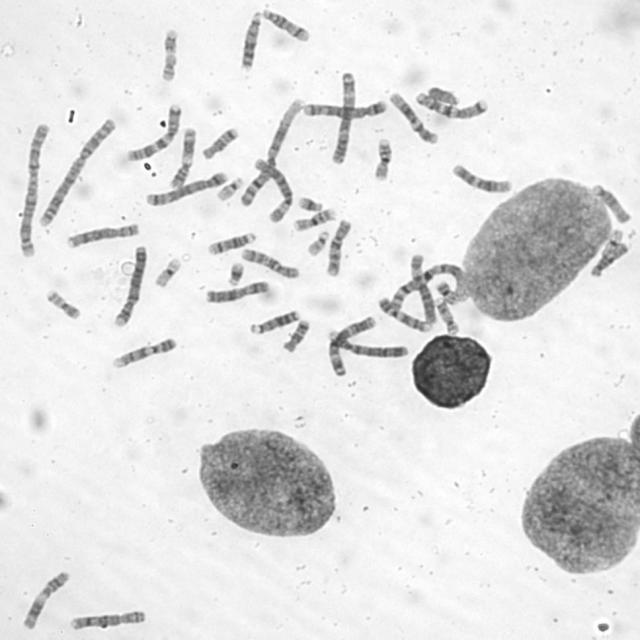A1: (235, 94, 305, 208), (387, 258, 467, 312)
A2: (36, 114, 118, 228), (15, 120, 51, 260)
A3: (324, 313, 376, 377), (327, 69, 357, 165)
B4: (110, 242, 149, 328), (325, 324, 409, 359)
B5: (143, 168, 230, 208), (300, 97, 390, 120)
C10: (238, 246, 302, 280), (323, 216, 353, 277)
C11: (19, 568, 72, 630), (167, 124, 198, 190)
C12: (386, 88, 440, 146), (448, 161, 513, 194)
C6: (249, 155, 294, 224), (407, 250, 437, 326)
C7: (124, 102, 184, 162), (412, 88, 488, 122)
C8: (64, 220, 141, 250), (66, 606, 148, 632)
C9: (109, 334, 178, 370), (376, 294, 433, 334)
D13: (236, 8, 264, 71), (248, 306, 301, 334)
D14: (259, 7, 313, 43), (204, 229, 257, 256)
D15: (590, 181, 632, 224), (590, 242, 629, 278)
E16: (290, 205, 337, 232), (370, 135, 394, 182)
E17: (157, 26, 180, 84), (432, 295, 461, 336)
E18: (199, 124, 240, 161), (280, 316, 310, 354)
F19: (152, 254, 183, 289), (600, 226, 624, 259)
F20: (44, 286, 82, 321), (434, 280, 460, 305)
G21: (225, 260, 246, 288), (296, 194, 324, 213)
G22: (213, 174, 245, 202), (302, 228, 330, 257)
X: (202, 278, 270, 304)
Y: (425, 82, 461, 108)
